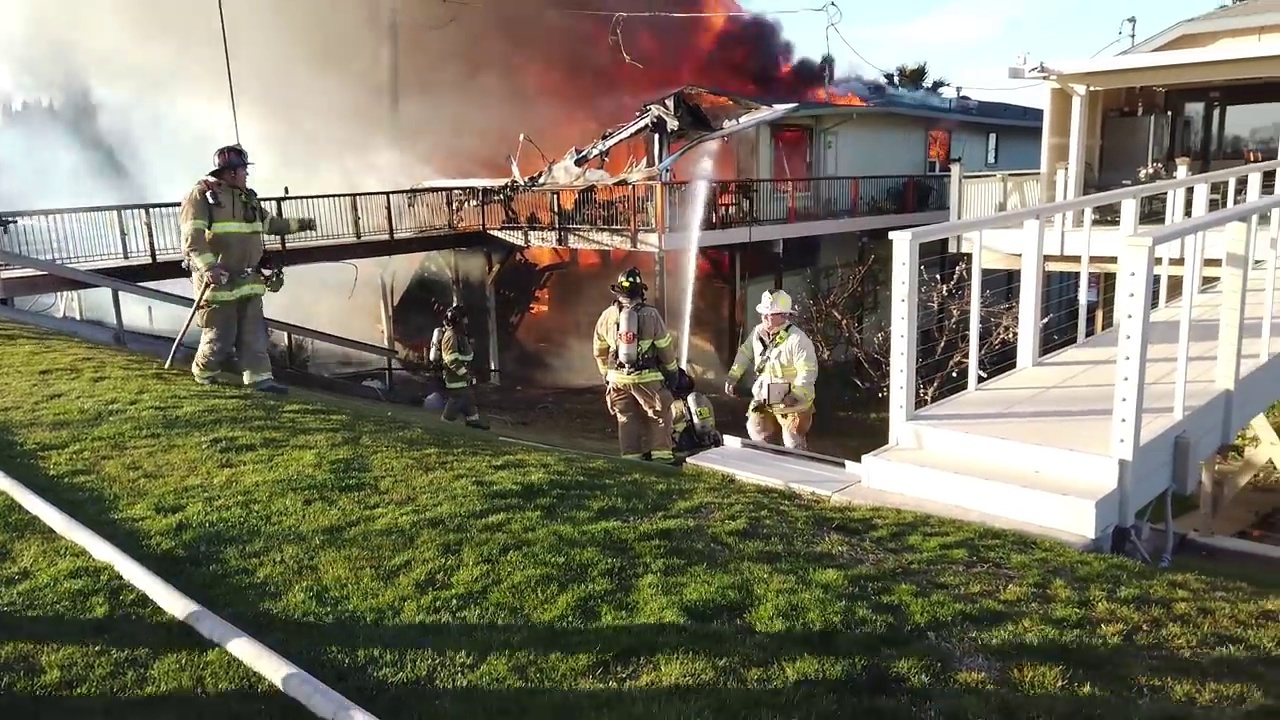fire: (773, 131, 809, 175), (809, 84, 870, 106), (608, 142, 643, 173), (523, 248, 570, 266), (698, 252, 727, 278), (530, 287, 553, 317), (707, 85, 735, 105), (716, 190, 741, 211), (579, 248, 602, 270), (929, 131, 947, 159)
smoke: (162, 1, 830, 108), (1, 1, 164, 204), (271, 112, 508, 186), (281, 266, 385, 345), (531, 314, 592, 392), (386, 247, 504, 277), (121, 293, 190, 344), (163, 109, 193, 204), (195, 110, 270, 142), (83, 288, 116, 324), (256, 144, 269, 193)
